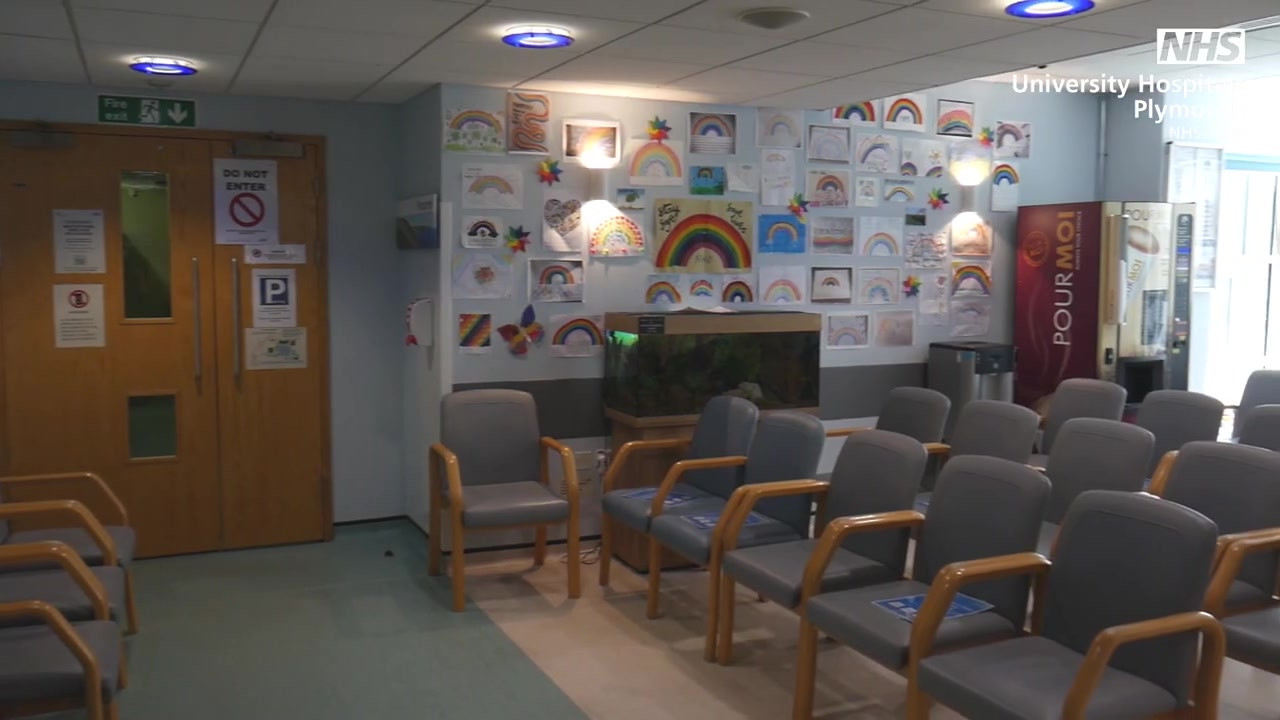chair: (907, 489, 1226, 719), (792, 454, 1053, 720), (717, 424, 929, 720), (646, 408, 826, 662), (598, 395, 769, 620), (428, 388, 581, 612), (1, 504, 138, 689), (1, 472, 138, 637), (1145, 441, 1280, 608), (1, 547, 128, 720), (1021, 418, 1155, 556), (910, 400, 1038, 541), (824, 386, 952, 492), (1026, 378, 1127, 473), (1132, 390, 1222, 489), (1229, 369, 1280, 444), (1240, 404, 1280, 450)
counter: (604, 309, 826, 454)
dispenser: (406, 296, 435, 348)
handle: (191, 256, 203, 379), (231, 256, 240, 380)
